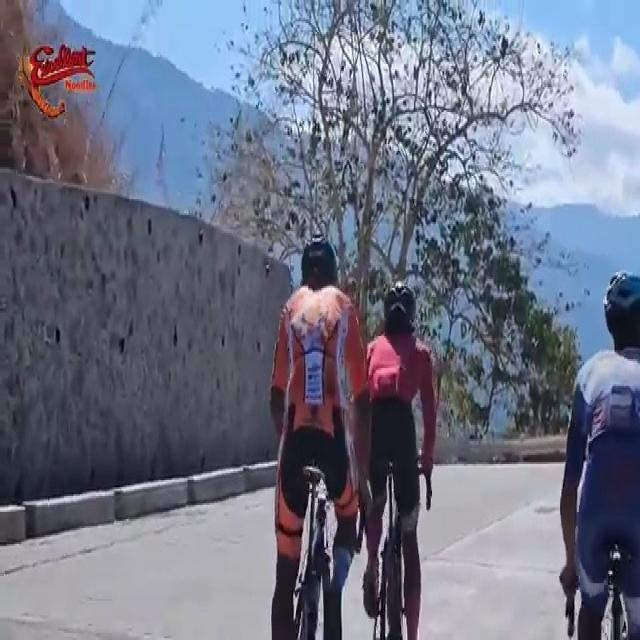bike: (266, 236, 370, 640), (548, 265, 640, 640), (364, 275, 436, 640)
